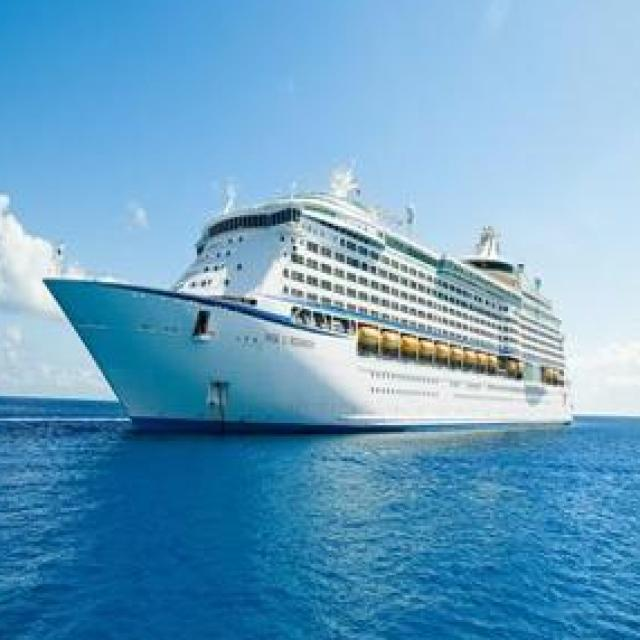passenger ship: (42, 188, 574, 428)
